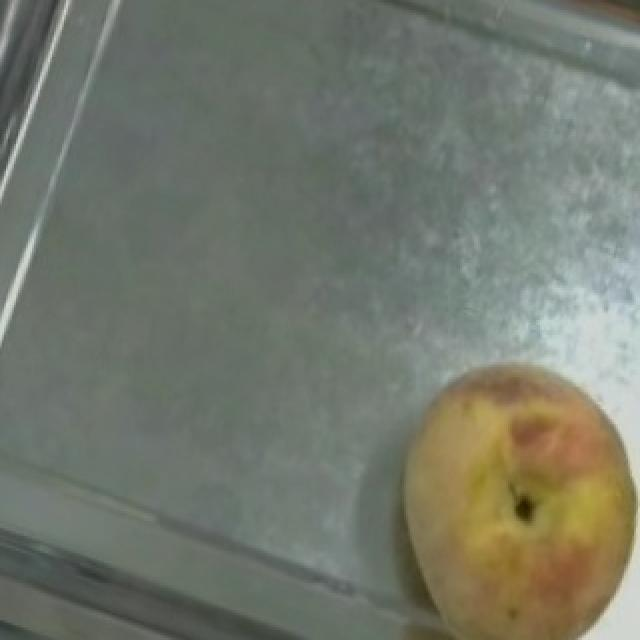Fruit: (352, 330, 640, 640)
